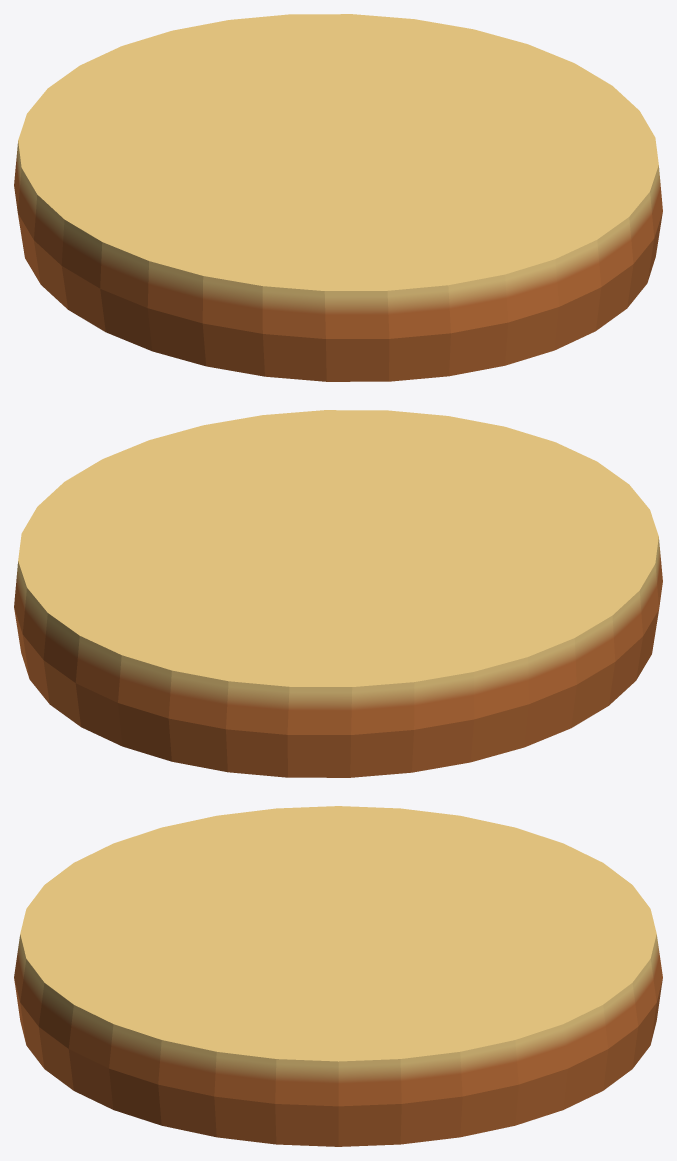
Rendered from downpart.fbx.
3 views of the same model, one above another, from view 1: azimuth 30°, elevation 25°; view 2: azimuth 150°, elevation 25°; view 3: azimuth 270°, elevation 25° (orthographic). The views are drawn at different scales.
Visible parts, largest first — view 1: donji; view 2: donji; view 3: donji.
Boxes of the visible parts, <box> form: donji: <box>14,14,662,381</box>; donji: <box>14,410,662,777</box>; donji: <box>14,806,662,1146</box>.
Bounding box in the file's own units: 187 × 29.51 × 199.
1 material, 1 textured.
